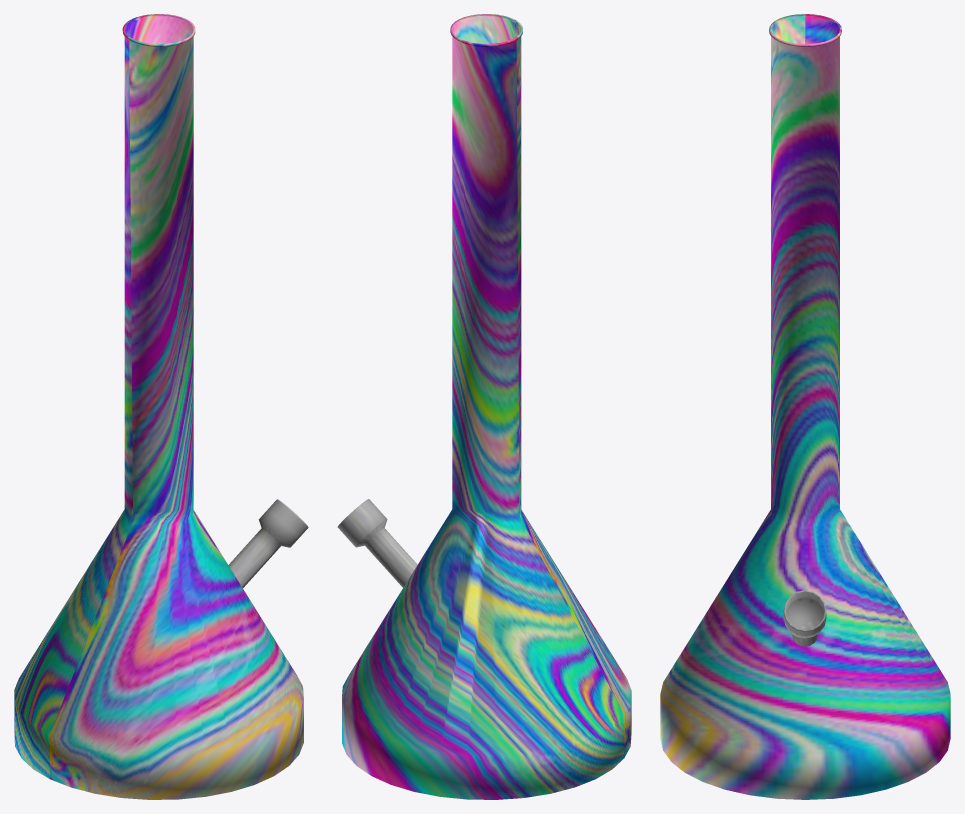
The model's file is Bong2Empty.fbx.
3 renders of one model, left to right at view 1: azimuth 30°, elevation 25°; view 2: azimuth 150°, elevation 25°; view 3: azimuth 270°, elevation 25°, orthographic.
Parts seen in each view (by area): view 1: bong; view 2: bong; view 3: bong.
Part boxes in pixels (x1,y1,x2,y2): bong: (14,14,308,799); bong: (337,14,631,799); bong: (660,14,950,799).
Bounding box in the file's own units: 0.1247 × 0.3118 × 0.1157.
